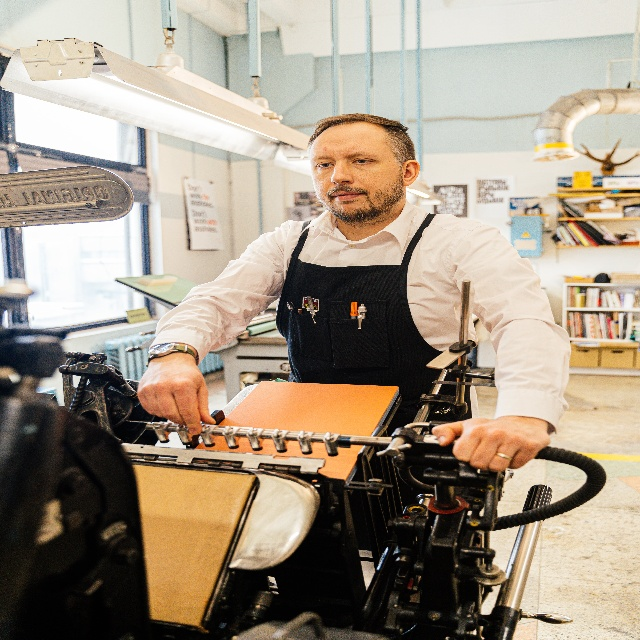Sin_guantes: (431, 417, 550, 473), (136, 353, 215, 436)
